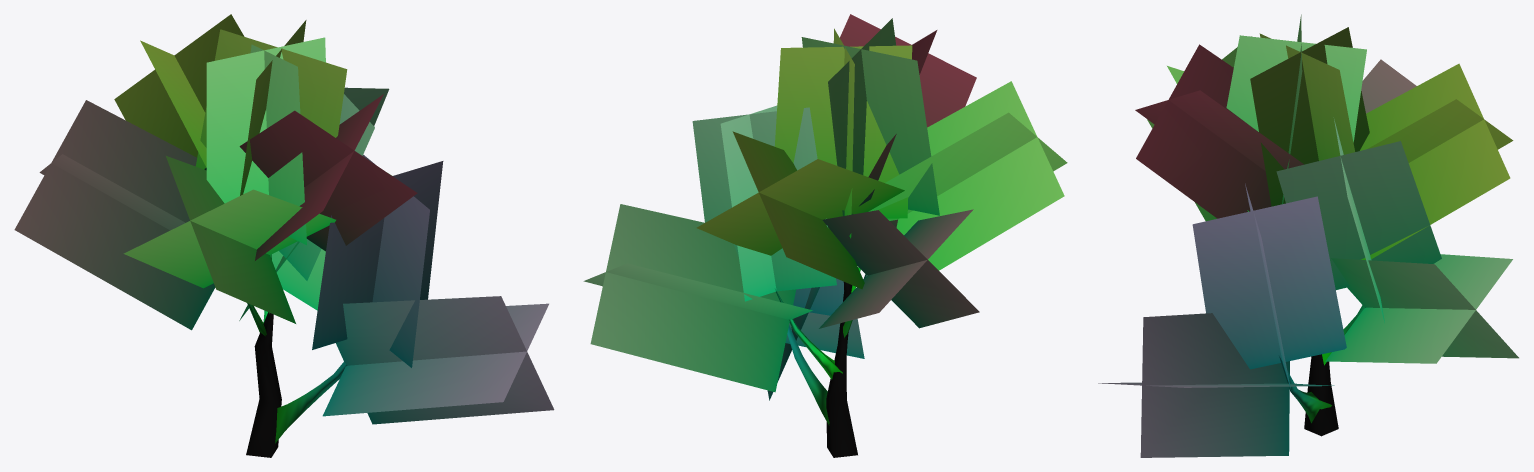
File: SuperTree_25.fbx
The picture shows the model from 3 angles, left to right: view 1: azimuth 30°, elevation 25°; view 2: azimuth 150°, elevation 25°; view 3: azimuth 270°, elevation 25°; orthographic projection. The views are drawn at different scales.
Visible parts, largest first — view 1: SuperTree_25; view 2: SuperTree_25; view 3: SuperTree_25.
Boxes of the visible parts, box(x1,y1,x2,y2) form: SuperTree_25: box(14, 14, 554, 457); SuperTree_25: box(583, 14, 1067, 457); SuperTree_25: box(1098, 14, 1518, 457).
Bounding box in the file's own units: 588 × 575 × 565.
